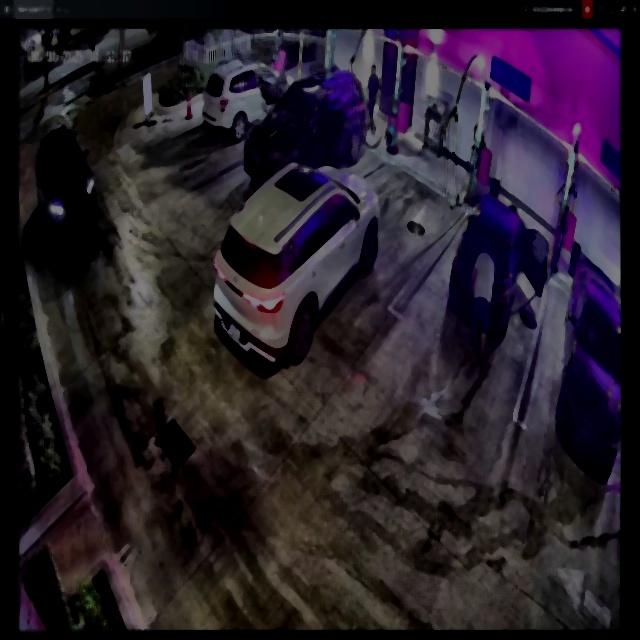Car: (211, 164, 379, 365), (247, 69, 365, 190), (452, 190, 547, 335)
